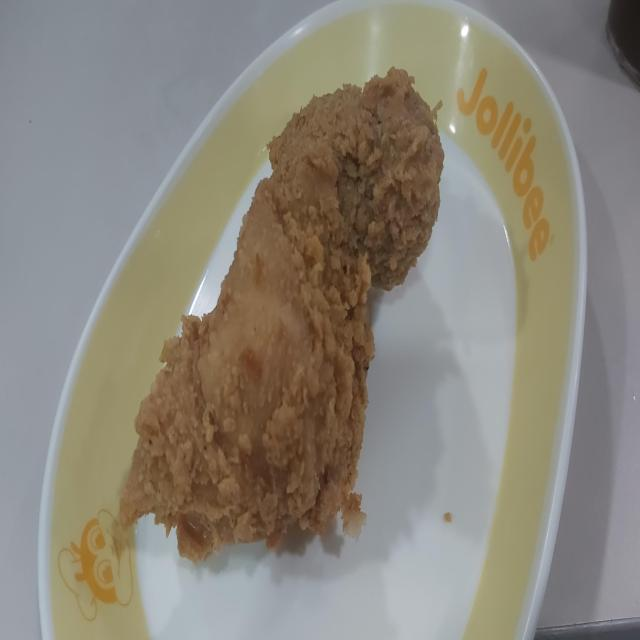Chicken -Fried Chicken-: (117, 72, 443, 564)
